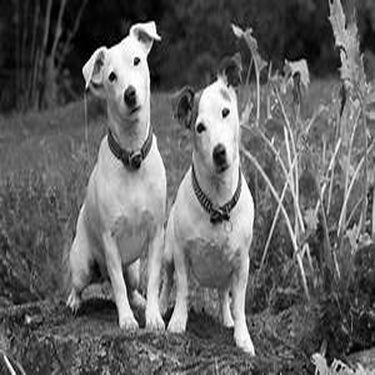dog: (45, 12, 186, 340), (161, 52, 264, 360)
